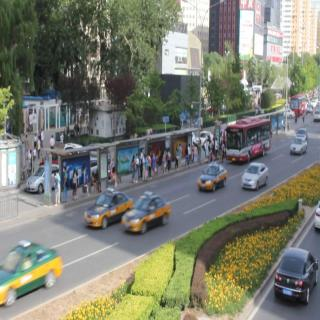BigCar: (221, 115, 275, 163)
Car: (0, 237, 66, 308), (272, 238, 320, 308), (82, 180, 134, 237), (122, 185, 171, 238), (195, 157, 229, 199), (241, 159, 269, 194), (289, 130, 310, 161)
